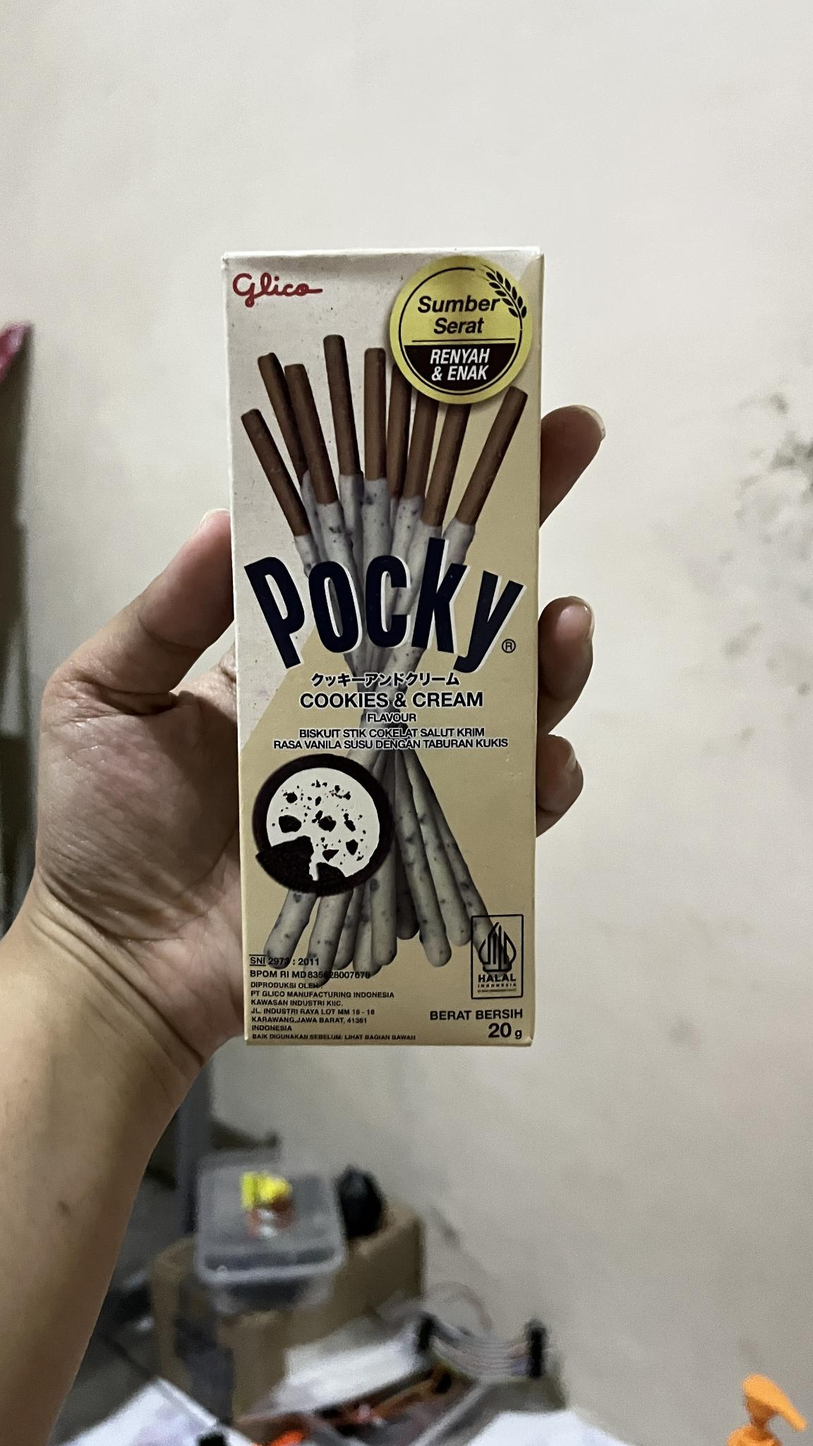Kertas: (226, 244, 548, 1069)
